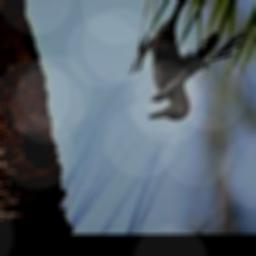Woodpecker: (129, 0, 249, 120)
